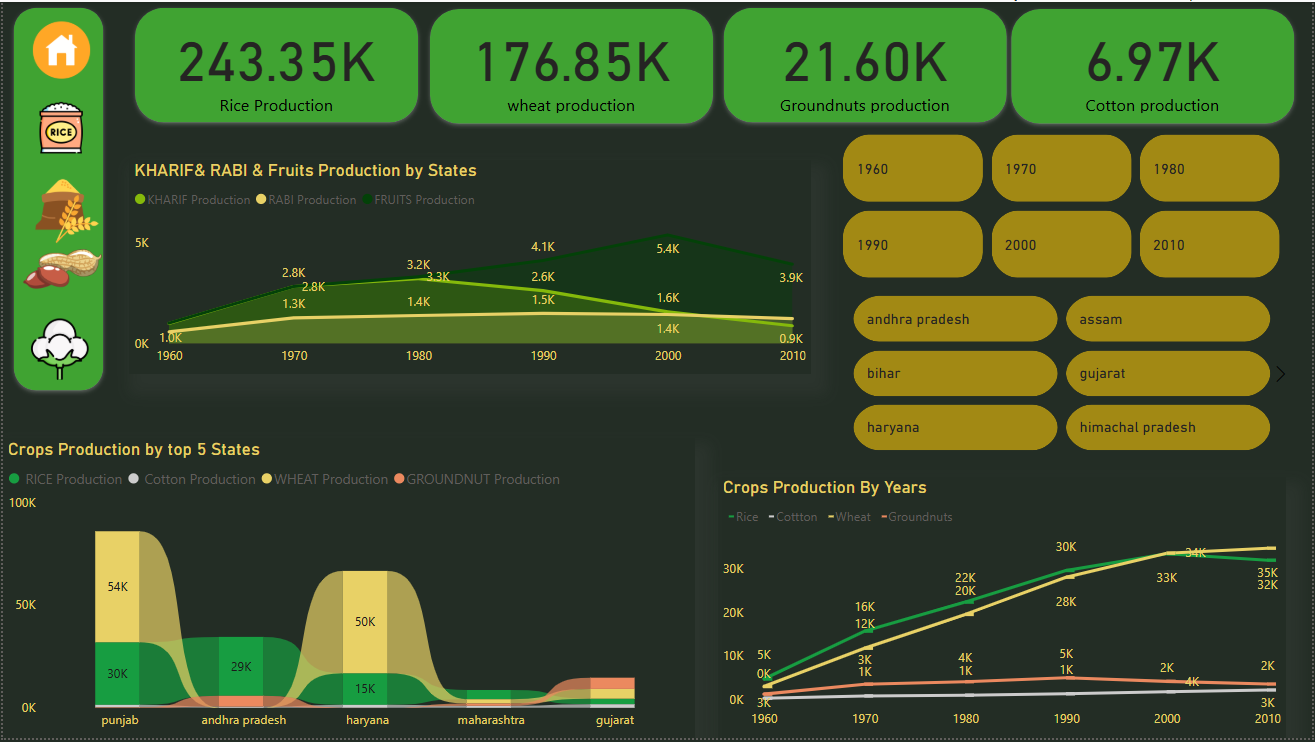

This screenshot's page, from the dashboard's own definition file:
{"tool":"powerbi","page":{"name":"Overview","canvas":[1280,720],"ordinal":0},"visuals":[{"type":"shape","box":[123.8,0,288.2,123.5],"z":0},{"type":"card","title":"RIce Production","fields":{"Values":["Measure.Total Rice Production"]},"box":[147.1,11,241.5,102.9],"z":1000},{"type":"advancedSlicerVisual","fields":{"Values":["rain-agriculture.Year group (bins)"]},"box":[816.9,124.7,439,150.4],"z":2000},{"type":"advancedSlicerVisual","fields":{"Values":["rain-agriculture.State Name"]},"box":[807.1,282.5,458.6,163.9],"z":3000},{"type":"shape","box":[411.7,1.4,288.2,123.5],"z":4000},{"type":"shape","box":[981.1,1.4,288.2,123.5],"z":5000},{"type":"card","fields":{"Values":["Measure.Average Rice Yield"]},"box":[699.8,11,288.2,104.3],"z":6000},{"type":"shape","box":[5.5,0,98.8,385.6],"z":7000},{"type":"ribbonChart","title":" Crops Production by top 5  States","fields":{"Category":["rain-agriculture.State Name"],"Y":["Sum(rain-agriculture.RICE PRODUCTION (1000 tons))","Sum(rain-agriculture.COTTON PRODUCTION (1000 tons))","Sum(rain-agriculture.WHEAT PRODUCTION (1000 tons))","Sum(rain-agriculture.GROUNDNUT PRODUCTION (1000 tons))"]},"box":[0,426.8,676.5,293.7],"z":8000},{"type":"image","box":[27.4,93.3,60.4,60.4],"z":9000},{"type":"image","box":[20.6,161.9,83.7,85.1],"z":10000},{"type":"image","box":[11,214.1,94.7,94.7],"z":11000},{"type":"image","box":[20.6,300.5,70,78.2],"z":12000},{"type":"image","box":[24.7,11,65.9,71.4],"z":13000},{"type":"shape","box":[699.8,0,288.2,123.5],"z":14000},{"type":"card","title":"RIce Production","fields":{"Values":["Wheatmeasure.total_wheatproduction"]},"box":[435,11,241.5,102.9],"z":15000},{"type":"card","title":"RIce Production","fields":{"Values":["Gn Measure.Total_gnproduction"]},"box":[723.2,11,241.5,102.9],"z":16000},{"type":"card","title":"RIce Production","fields":{"Values":["Cotton Measure.Total_cottonproduction"]},"box":[1004.5,11,241.5,102.9],"z":17000},{"type":"lineChart","title":" Crops  Production By Years","fields":{"Category":["rain-agriculture.Year group (bins)"],"Y":["Sum(rain-agriculture.RICE PRODUCTION (1000 tons))","Sum(rain-agriculture.COTTON PRODUCTION (1000 tons))","Sum(rain-agriculture.WHEAT PRODUCTION (1000 tons))","Sum(rain-agriculture.GROUNDNUT PRODUCTION (1000 tons))"]},"box":[699.8,465.2,555.7,255.2],"z":18000},{"type":"areaChart","title":"KHARIF& RABI & Fruits  Production by States","fields":{"Category":["rain-agriculture.Year group (bins)"],"Y":["Sum(rain-agriculture.KHARIF SORGHUM PRODUCTION (1000 tons))","Sum(rain-agriculture.RABI SORGHUM PRODUCTION (1000 tons))","Sum(rain-agriculture.FRUITS AND VEGETABLES AREA (1000 ha))"]},"box":[123.5,153.7,666.9,209.9],"z":19000}]}

Visuals, with their boxes in screenshot pixels (x1, y1, x2, y2), scaled from the page's 1280x720 canvas onto the 1315x742 screenshot:
shape: x1=127 y1=0 x2=423 y2=127
"RIce Production" card: x1=151 y1=11 x2=399 y2=117
advancedSlicerVisual - rain-agriculture.Year group (bins): x1=839 y1=129 x2=1290 y2=284
advancedSlicerVisual - rain-agriculture.State Name: x1=829 y1=291 x2=1300 y2=460
shape: x1=423 y1=1 x2=719 y2=129
shape: x1=1008 y1=1 x2=1304 y2=129
card - Measure.Average Rice Yield: x1=719 y1=11 x2=1015 y2=119
shape: x1=6 y1=0 x2=107 y2=397
" Crops Production by top 5  States" ribbonChart: x1=0 y1=440 x2=695 y2=741
image: x1=28 y1=96 x2=90 y2=158
image: x1=21 y1=167 x2=107 y2=255
image: x1=11 y1=221 x2=109 y2=318
image: x1=21 y1=310 x2=93 y2=390
image: x1=25 y1=11 x2=93 y2=85
shape: x1=719 y1=0 x2=1015 y2=127
"RIce Production" card: x1=447 y1=11 x2=695 y2=117
"RIce Production" card: x1=743 y1=11 x2=991 y2=117
"RIce Production" card: x1=1032 y1=11 x2=1280 y2=117
" Crops  Production By Years" lineChart: x1=719 y1=479 x2=1290 y2=741
"KHARIF& RABI & Fruits  Production by States" areaChart: x1=127 y1=158 x2=812 y2=375
